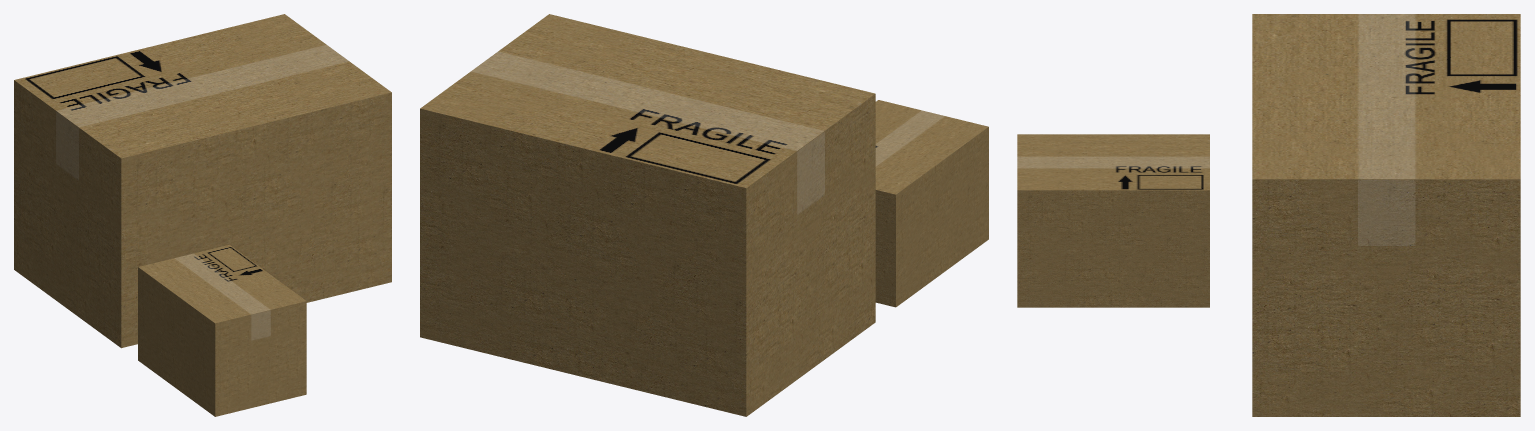
Rendered from M_PlumbingBoxes.fbx.
3 views of the same model, side by side, from view 1: azimuth 30°, elevation 25°; view 2: azimuth 150°, elevation 25°; view 3: azimuth 270°, elevation 25° (orthographic). The views are drawn at different scales.
Parts seen in each view (by area): view 1: Arch_44__035_2, Arch_44__035_16; view 2: Arch_44__035_2, Arch_44__035_16; view 3: Arch_44__035_2, Arch_44__035_16.
Part boxes in pixels (x1,y1,x2,y2): Arch_44__035_2: [14, 14, 391, 348]; Arch_44__035_16: [138, 245, 306, 416]; Arch_44__035_2: [420, 14, 875, 416]; Arch_44__035_16: [875, 100, 988, 307]; Arch_44__035_2: [1252, 14, 1520, 416]; Arch_44__035_16: [1017, 134, 1209, 307].
Bounding box in the file's own units: 46.96 × 31.46 × 60.42.
Materials: 1 (1 with a texture image).
